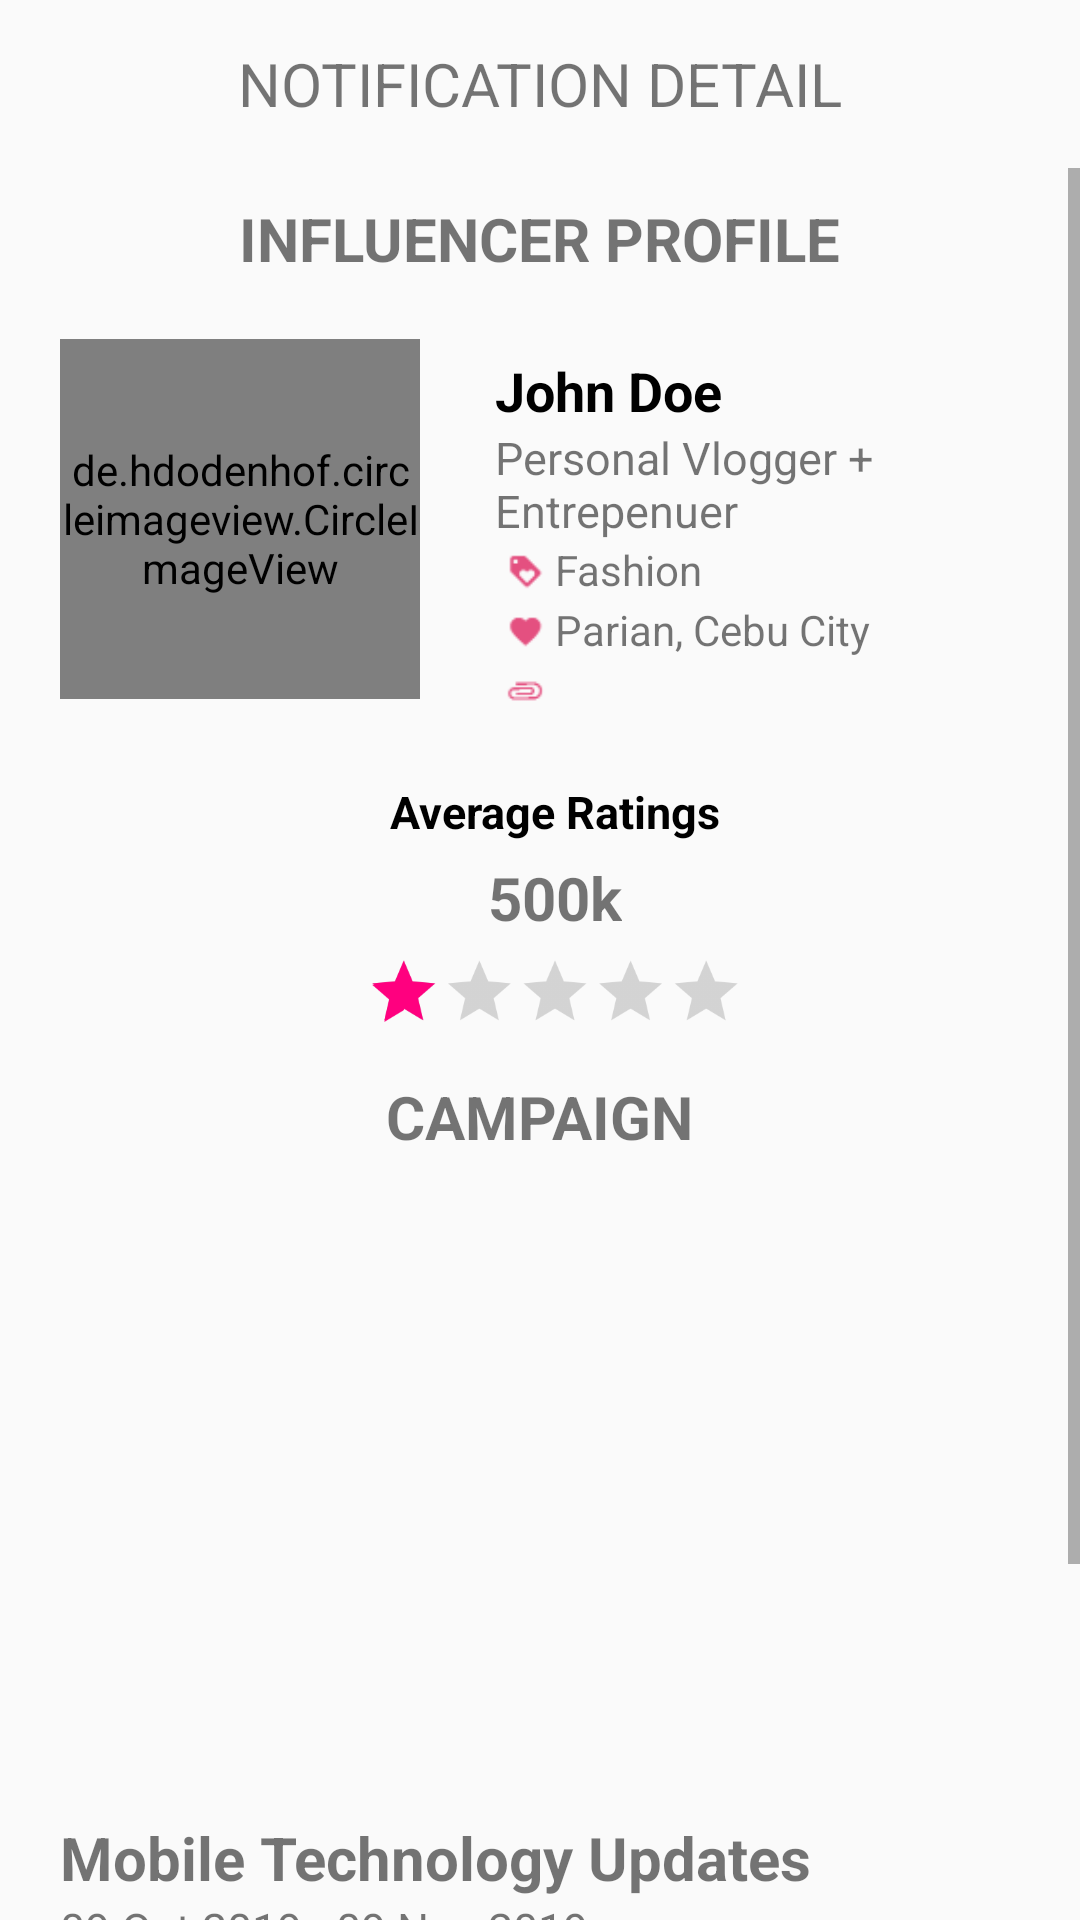

Where icons sit on this 1080×1920 app screen, as (x1, y1, x2, y2):
heart: (509, 617, 542, 646)
link: (508, 681, 543, 701)
tag: (509, 555, 542, 588)
